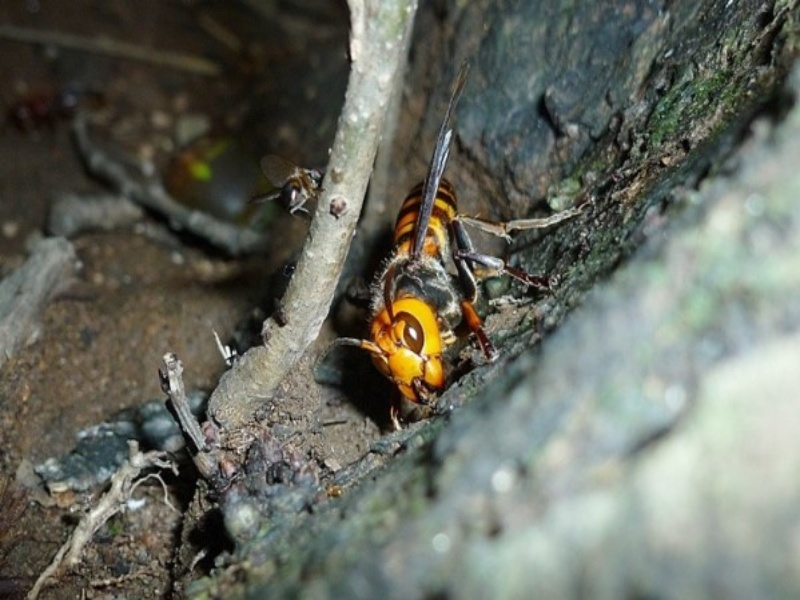asian_giant_hornet: (358, 174, 499, 429)
